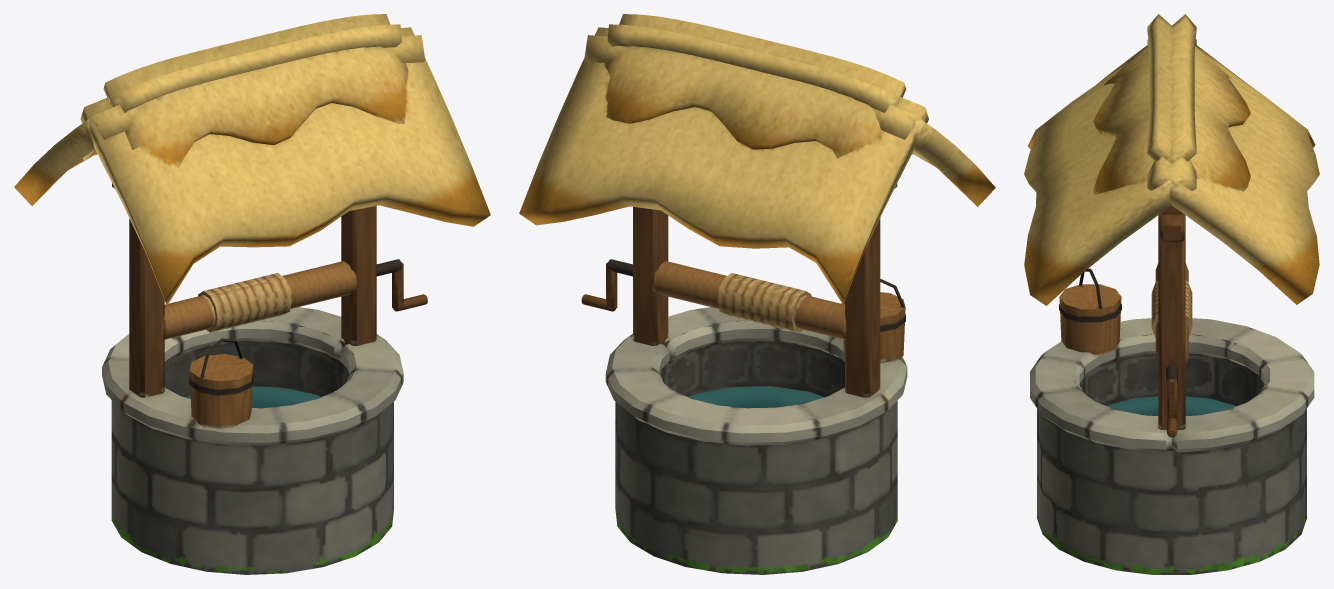
Rendered from well.glb.
3 views of the same model, side by side, from view 1: azimuth 30°, elevation 25°; view 2: azimuth 150°, elevation 25°; view 3: azimuth 270°, elevation 25° (orthographic). The views are drawn at different scales.
Parts seen in each view (by area): view 1: well; view 2: well; view 3: well.
Part boxes in pixels (box(x1,y1,x2,y2)): well: box(14, 14, 490, 574); well: box(519, 14, 995, 574); well: box(1024, 14, 1319, 574).
Bounding box in the file's own units: 1.91 × 2.55 × 1.52.
1 material, 1 textured.
